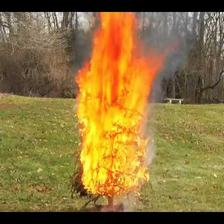fire: (70, 15, 161, 201)
